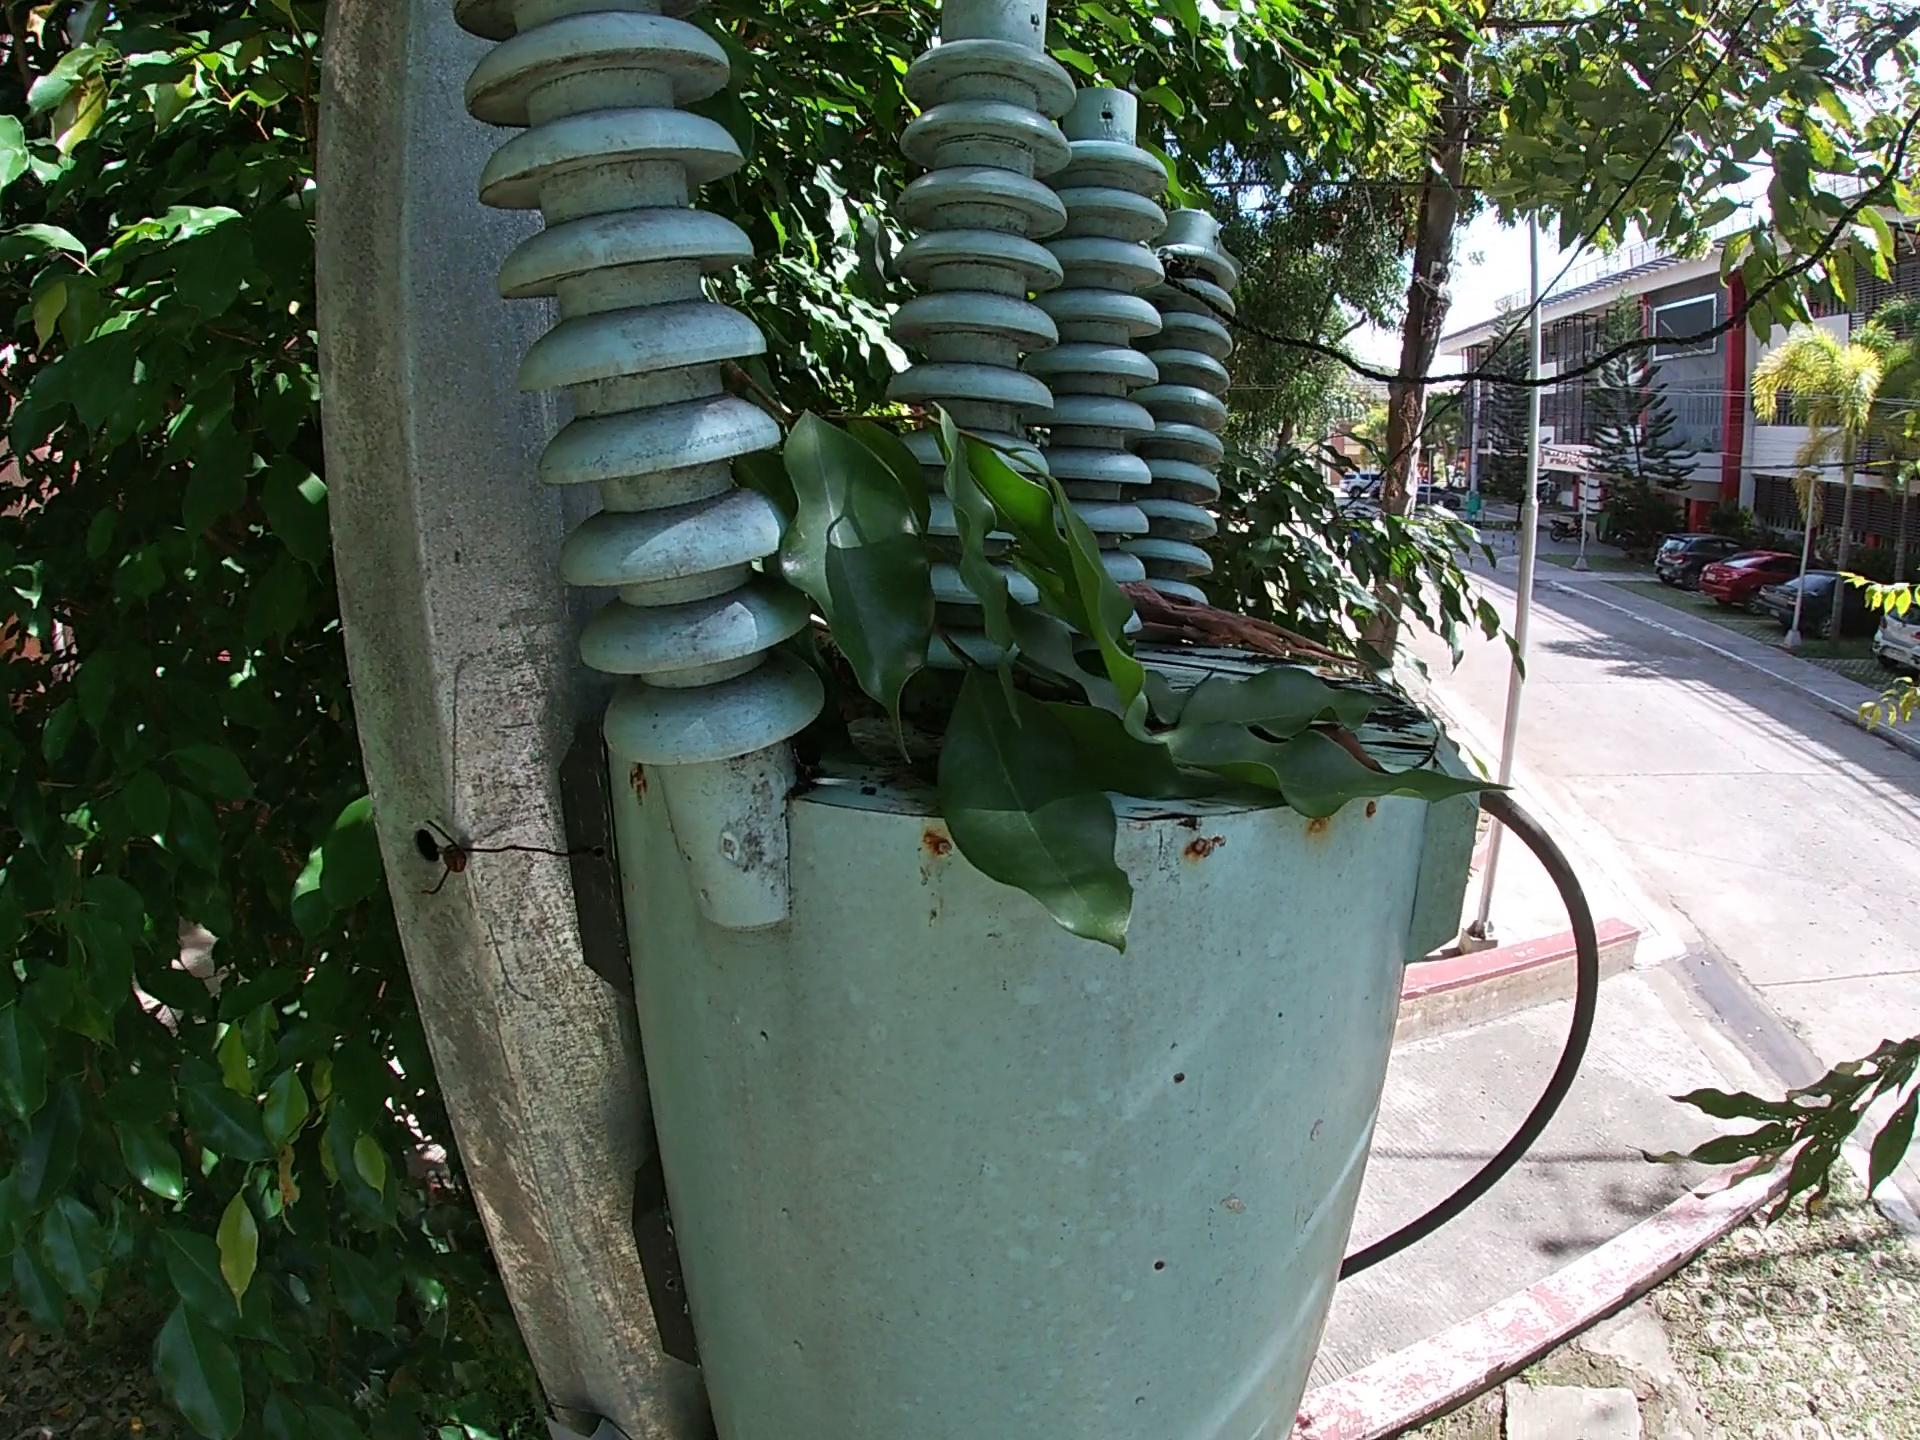branch with leaves: (738, 369, 1556, 980)
tree branch: (1113, 585, 1342, 664), (1123, 655, 1258, 685)
